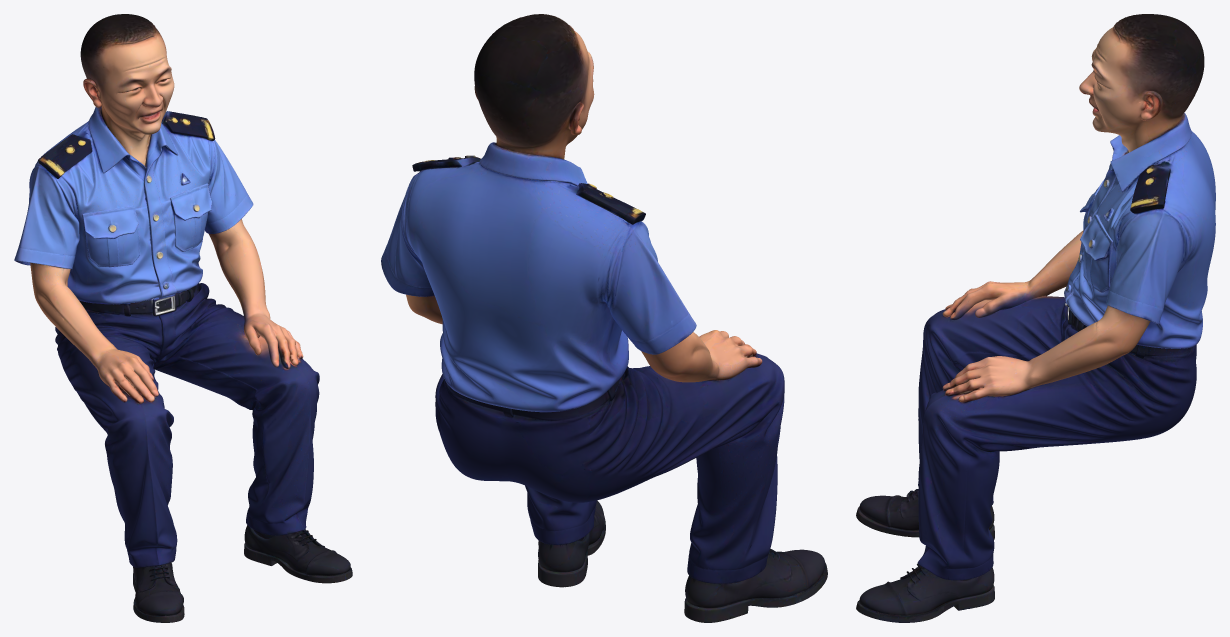
The model's file is assistant-driver-fangge.glb.
3 views of the same model, side by side, from view 1: azimuth 30°, elevation 25°; view 2: azimuth 150°, elevation 25°; view 3: azimuth 270°, elevation 25° (orthographic). The views are drawn at different scales.
Parts seen in each view (by area): view 1: node_0; view 2: node_0; view 3: node_0.
Boxes of the visible parts, x1,y1,x2,y2 form: node_0: [14, 14, 352, 622]; node_0: [381, 14, 827, 622]; node_0: [856, 14, 1215, 622].
Size of the model in its own units: 0.5021 by 1 by 0.5944.
Materials: 1 (1 with a texture image).
